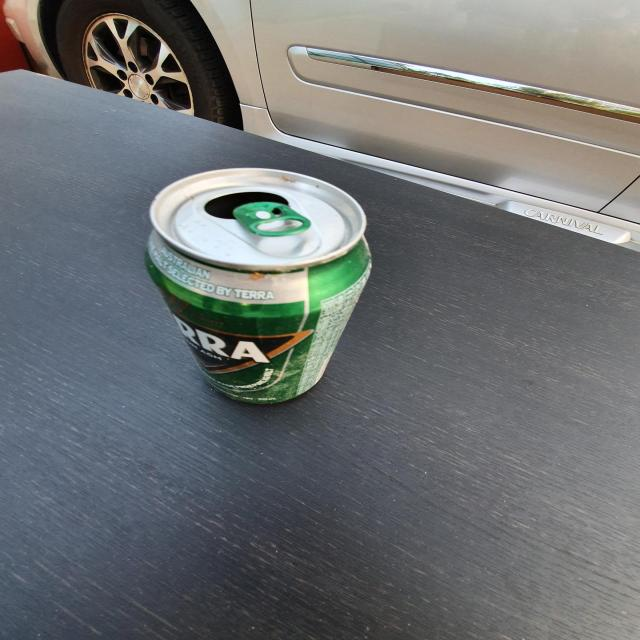can: (146, 168, 370, 404)
